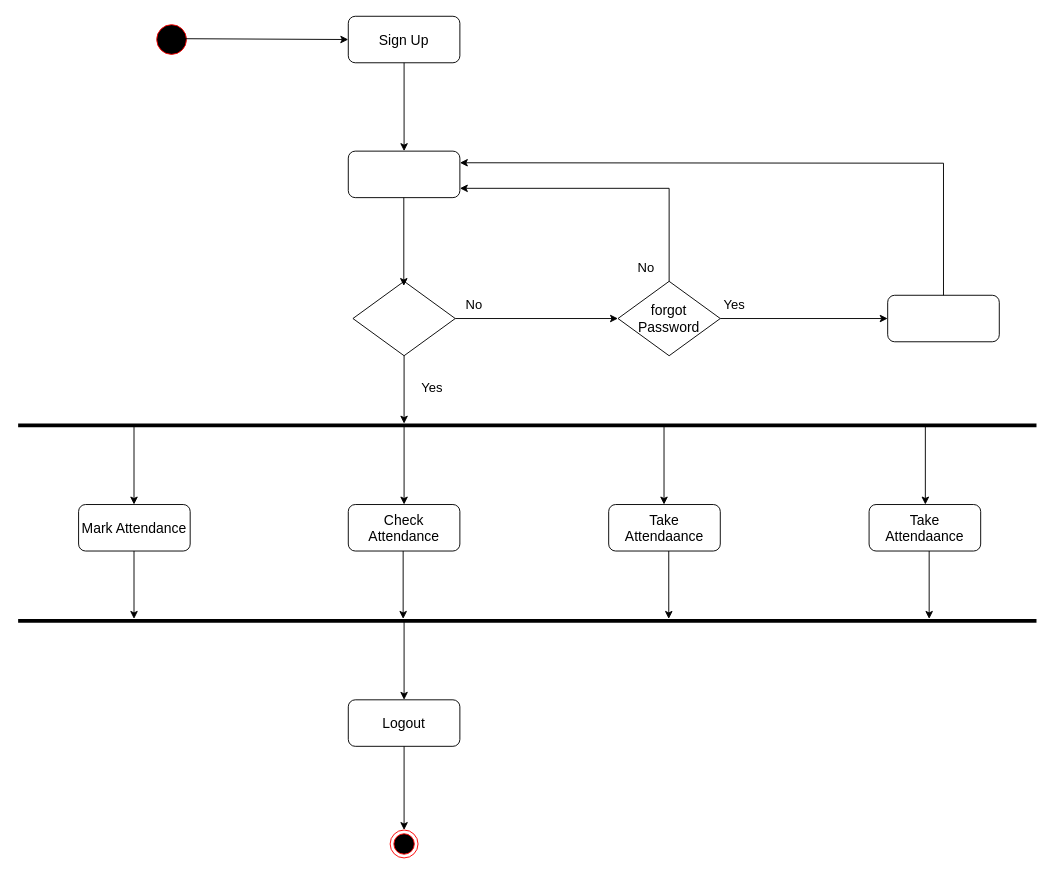
Some shapes in this 1054 by 874 pixel diagram are drawn without their labels. Here are the shapes that lost their labels. From the top down, the centre of each, then its label:
At (403,174): "Login".
At (403,318): "Valid Login".
At (943,318): "Edit Password".
